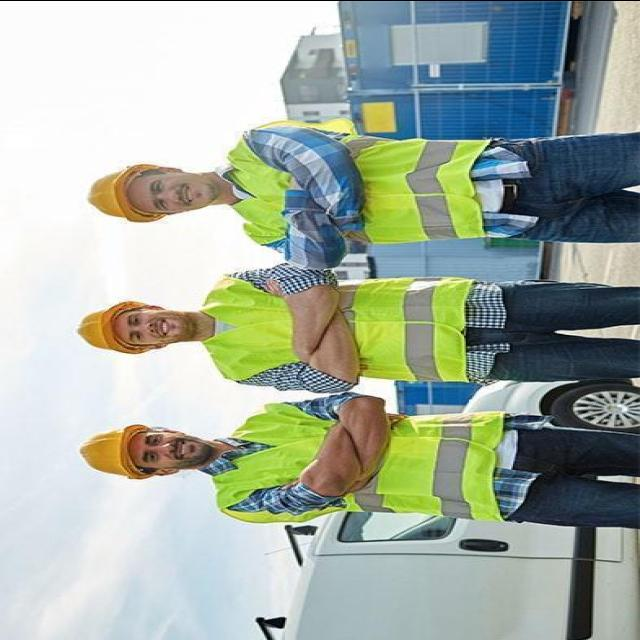helmet: (77, 150, 165, 228), (68, 278, 150, 360), (65, 418, 144, 486)
jacket: (206, 398, 514, 534), (217, 116, 502, 252), (188, 268, 496, 387)
